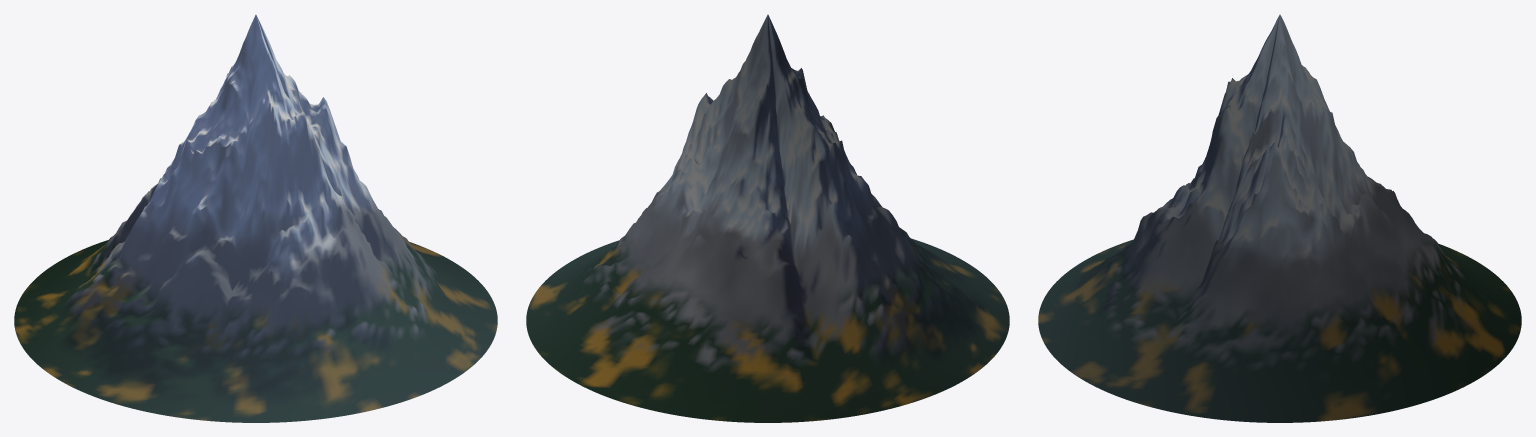
The picture shows the model from 3 angles, left to right: view 1: azimuth 30°, elevation 25°; view 2: azimuth 150°, elevation 25°; view 3: azimuth 270°, elevation 25°; orthographic projection.
Visible parts, largest first — view 1: L4_3_Peak2; view 2: L4_3_Peak2; view 3: L4_3_Peak2.
Part boxes in pixels (x1,y1,x2,y2): L4_3_Peak2: [14, 14, 497, 422]; L4_3_Peak2: [526, 14, 1009, 422]; L4_3_Peak2: [1038, 14, 1521, 422].
Size of the model in its own units: 1000 by 700 by 1000.
